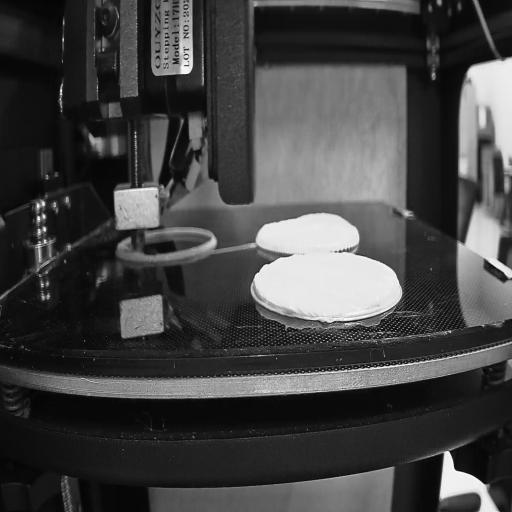over_extrusion: (249, 275, 269, 307)
